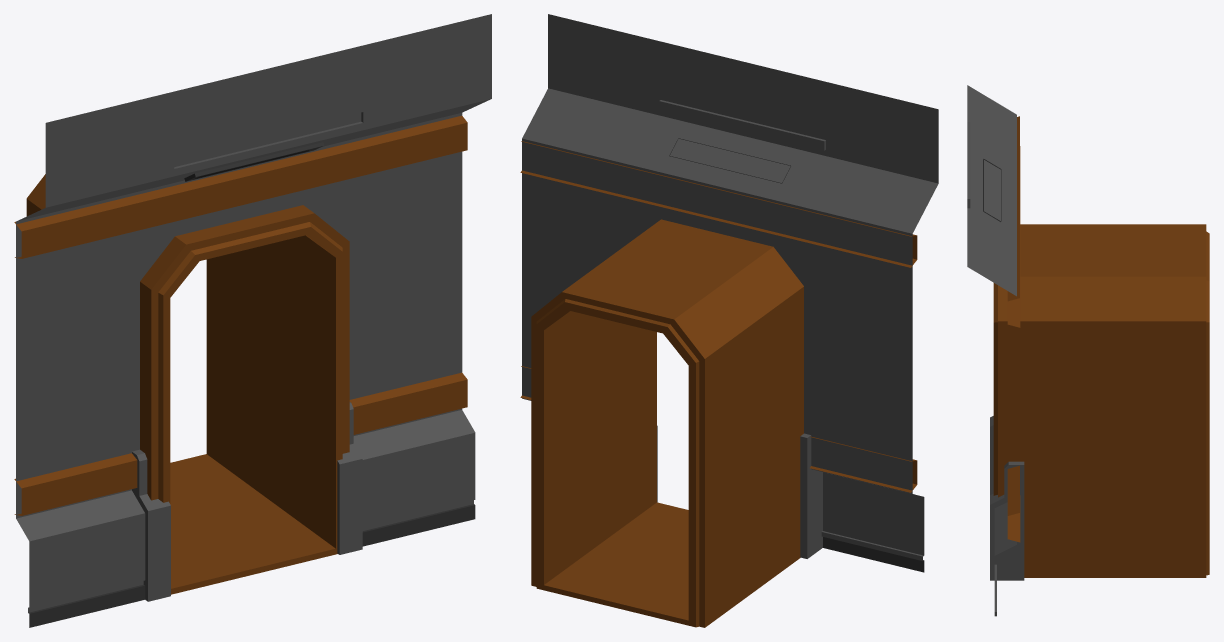
Rendered from DoorSingleLong_Wall_SideA.obj.
3 views of the same model, side by side, from view 1: azimuth 30°, elevation 25°; view 2: azimuth 150°, elevation 25°; view 3: azimuth 270°, elevation 25° (orthographic). The views are drawn at different scales.
Visible parts, largest first — view 1: DoorSingleLong_Wall_SideA_Plane.313; view 2: DoorSingleLong_Wall_SideA_Plane.313; view 3: DoorSingleLong_Wall_SideA_Plane.313.
Part boxes in pixels (x1,y1,x2,y2): DoorSingleLong_Wall_SideA_Plane.313: (14,14,491,627); DoorSingleLong_Wall_SideA_Plane.313: (520,14,938,627); DoorSingleLong_Wall_SideA_Plane.313: (967,85,1209,616).
Size of the model in its own units: 4 by 4.44 by 2.25.
